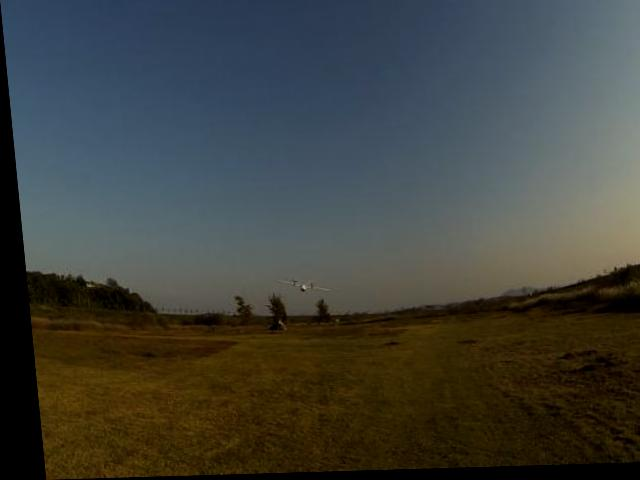uav: (264, 266, 331, 304)
